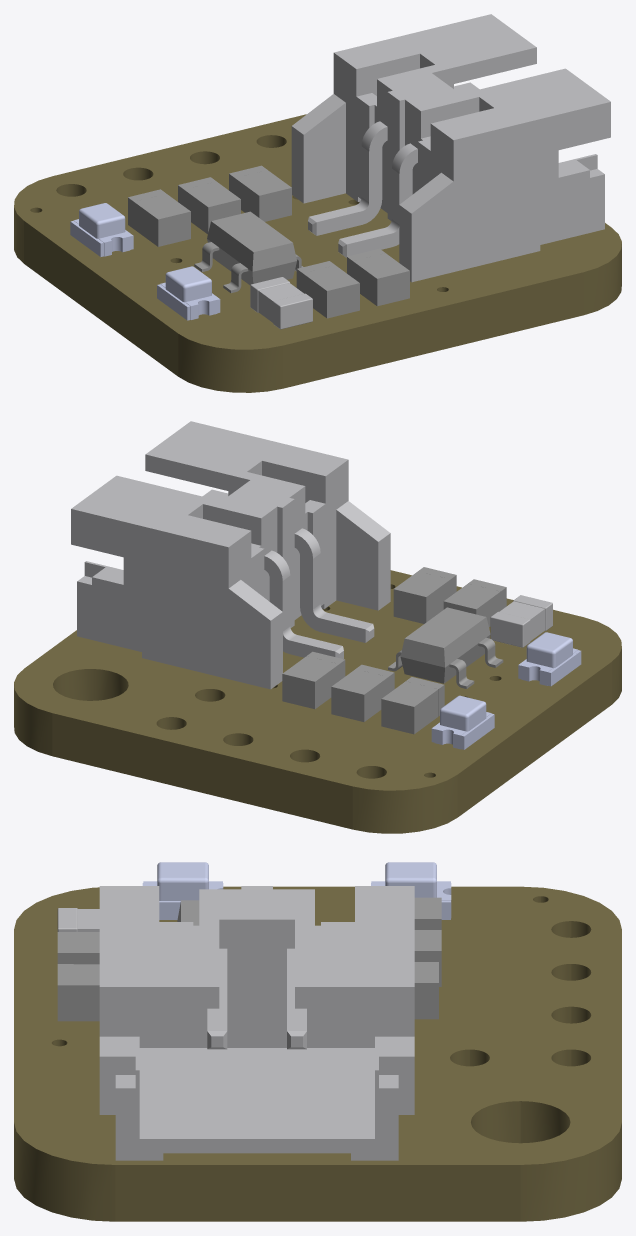
Rendered from ada-2124.glb.
3 renders of one model, top to bottom at view 1: azimuth 30°, elevation 25°; view 2: azimuth 150°, elevation 25°; view 3: azimuth 270°, elevation 25°, orthographic. The views are drawn at different scales.
Parts seen in each view (by area): view 1: 0.16666666666666666_0.16666666666666666_0.08333333333333333_, 0.5833333333333334_0.5833333333333334_0.5833333333333334_0.8, 0.3333333333333333_0.3333333333333333_0.3333333333333333_0, 0.5833333333333334_0.6666666666666666_0.8333333333333334_0; view 2: 0.16666666666666666_0.16666666666666666_0.08333333333333333_, 0.5833333333333334_0.5833333333333334_0.5833333333333334_0.8, 0.3333333333333333_0.3333333333333333_0.3333333333333333_0, 0.5833333333333334_0.6666666666666666_0.8333333333333334_0; view 3: 0.16666666666666666_0.16666666666666666_0.08333333333333333_, 0.5833333333333334_0.5833333333333334_0.5833333333333334_0.8, 0.3333333333333333_0.3333333333333333_0.3333333333333333_0, 0.5833333333333334_0.6666666666666666_0.8333333333333334_0.
Boxes of the visible parts, x1,y1,x2,y2 form: 0.16666666666666666_0.16666666666666666_0.08333333333333333_: (14,114,621,392); 0.5833333333333334_0.5833333333333334_0.5833333333333334_0.8: (250,14,610,329); 0.3333333333333333_0.3333333333333333_0.3333333333333333_0: (128,165,409,318); 0.5833333333333334_0.6666666666666666_0.8333333333333334_0: (70,203,220,320); 0.16666666666666666_0.16666666666666666_0.08333333333333333_: (14,570,621,833); 0.5833333333333334_0.5833333333333334_0.5833333333333334_0.8: (71,421,552,689); 0.3333333333333333_0.3333333333333333_0.3333333333333333_0: (282,567,506,734); 0.5833333333333334_0.6666666666666666_0.8333333333333334_0: (431,632,581,749); 0.16666666666666666_0.16666666666666666_0.08333333333333333_: (14,886,621,1221); 0.5833333333333334_0.5833333333333334_0.5833333333333334_0.8: (57,886,414,1160); 0.3333333333333333_0.3333333333333333_0.3333333333333333_0: (57,897,441,1021); 0.5833333333333334_0.6666666666666666_0.8333333333333334_0: (142,862,451,919).
Bounding box in the file's own units: 1.65 × 0.637 × 1.52.
